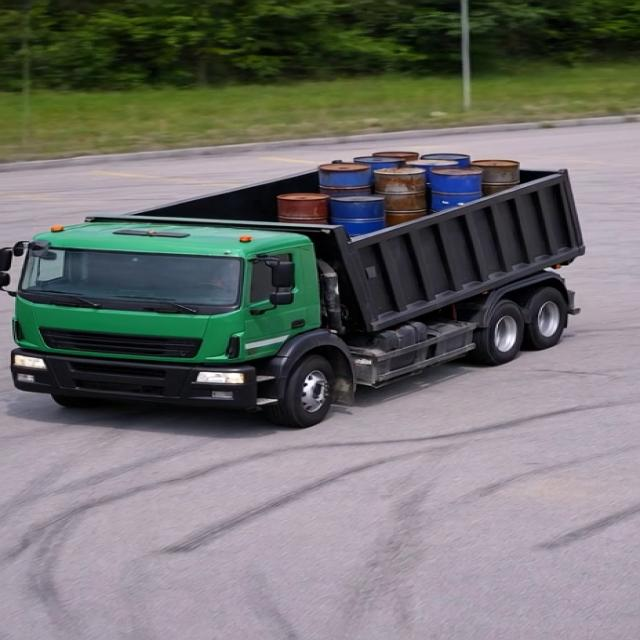trailer: (102, 148, 566, 245)
truck: (0, 127, 583, 428)
